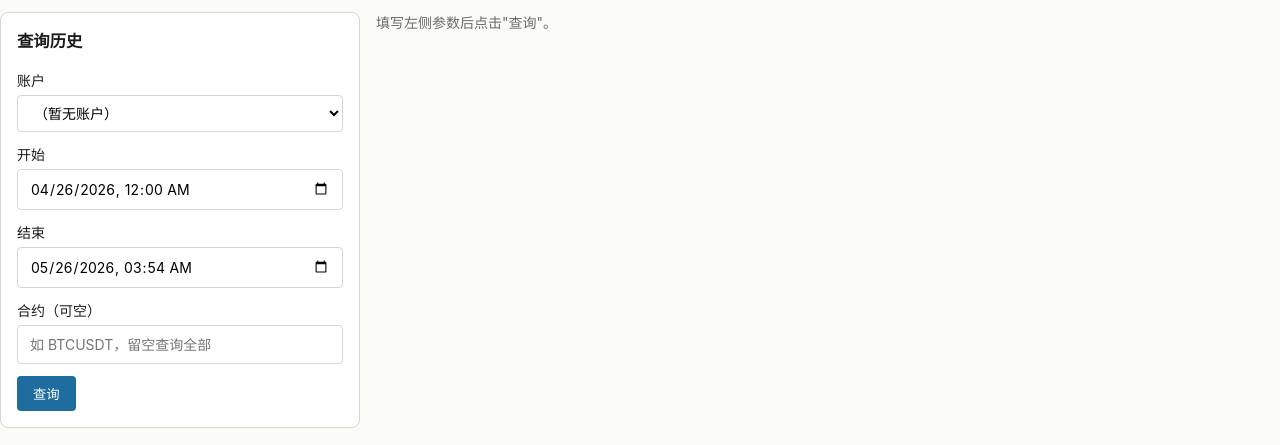
Test case: HistoryPage › shows a local validation error when account is missing
Step 1. Click the button "查询" → [46, 393], box left=17, top=376, right=76, bottom=411
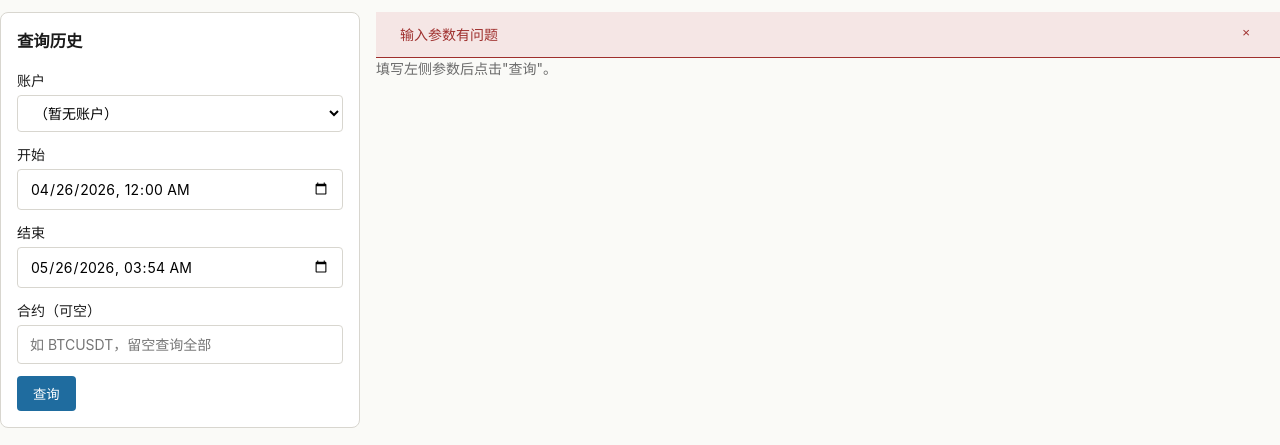
Expected: the text "输入参数有问题" is shown, left=400, top=26, right=498, bottom=43
